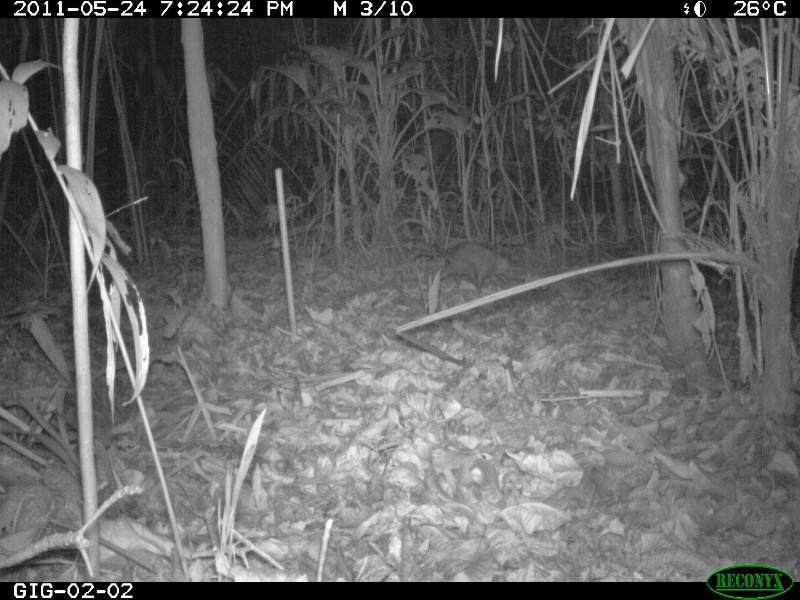opossum: (391, 215, 517, 289)
